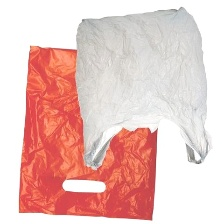plastic_bag: (14, 43, 162, 223), (68, 3, 217, 173)
